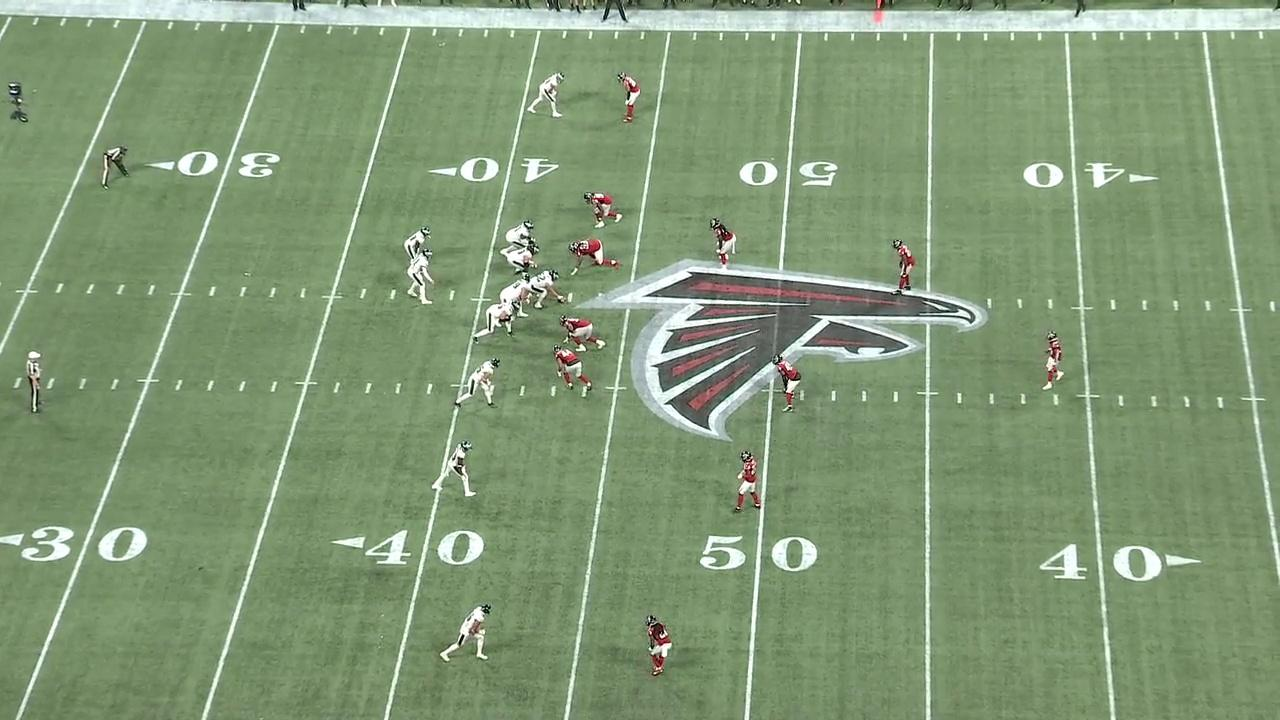player: (435, 598, 497, 667), (429, 438, 477, 501), (451, 355, 504, 412), (729, 449, 769, 516), (565, 238, 625, 280), (471, 297, 522, 346), (770, 354, 809, 418), (552, 342, 597, 396), (524, 69, 570, 120), (640, 613, 672, 682), (705, 216, 741, 277), (1036, 332, 1070, 395), (892, 236, 924, 300), (582, 189, 628, 233), (557, 315, 609, 353), (494, 272, 533, 322), (406, 247, 438, 306), (525, 267, 565, 312), (615, 70, 647, 125), (499, 217, 538, 261), (506, 241, 544, 280), (401, 225, 434, 265)
ref: (18, 348, 51, 416), (97, 144, 138, 192)
